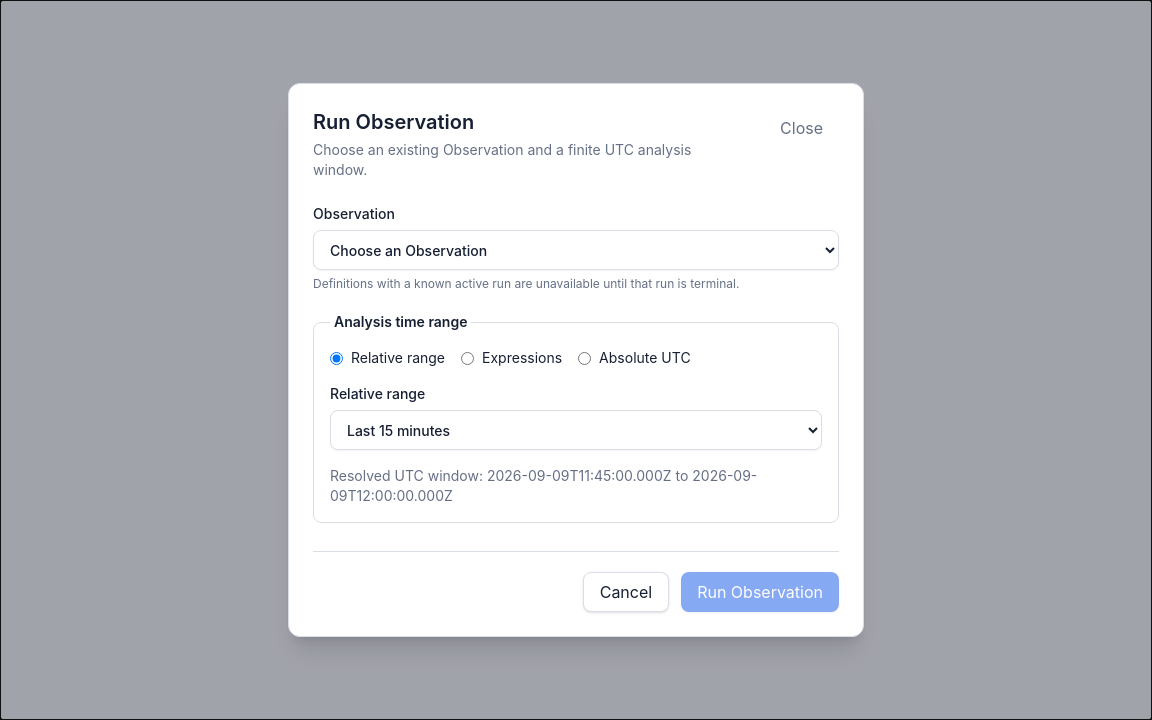
Scenario: RunObservationDialog › rejects unsupported expressions before launch and renders server conflict as an existing active run
The width and height of the screenshot is (1152, 720).
Select "Never run first" in the dropdown named "Observation to run" at (576, 250), box x1=313 y1=230 x2=839 y2=270
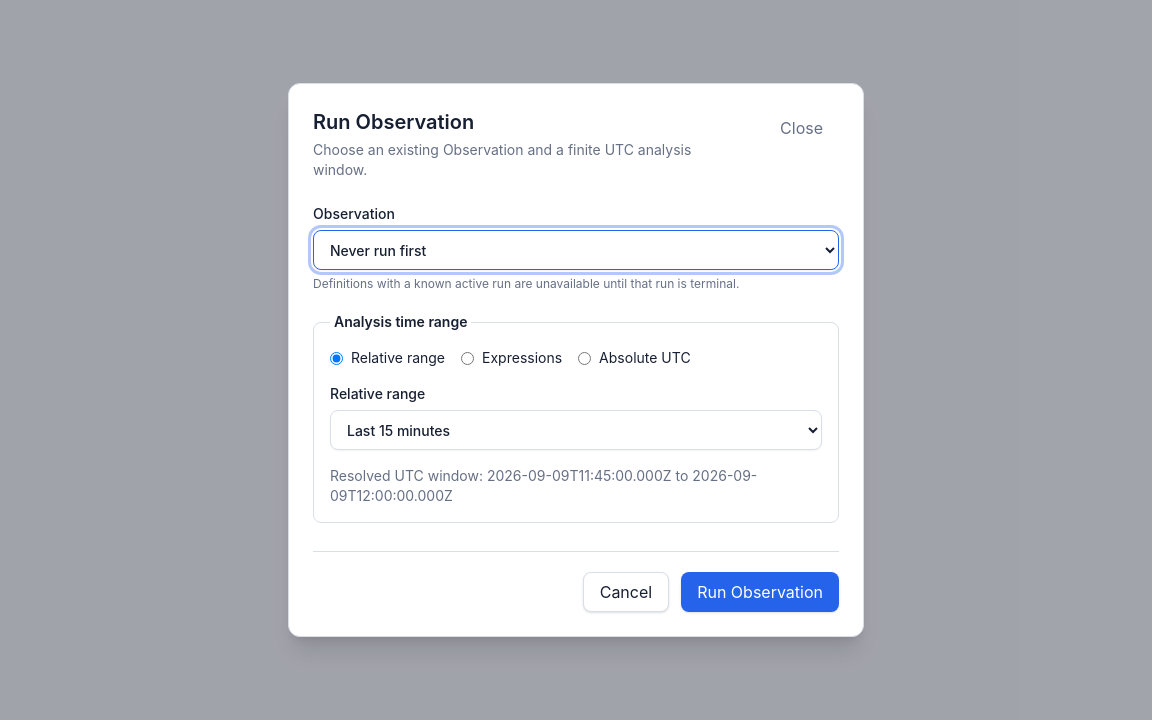
Click the radio button labelled "Expressions" at (468, 358), box x1=461 y1=352 x2=474 y2=364
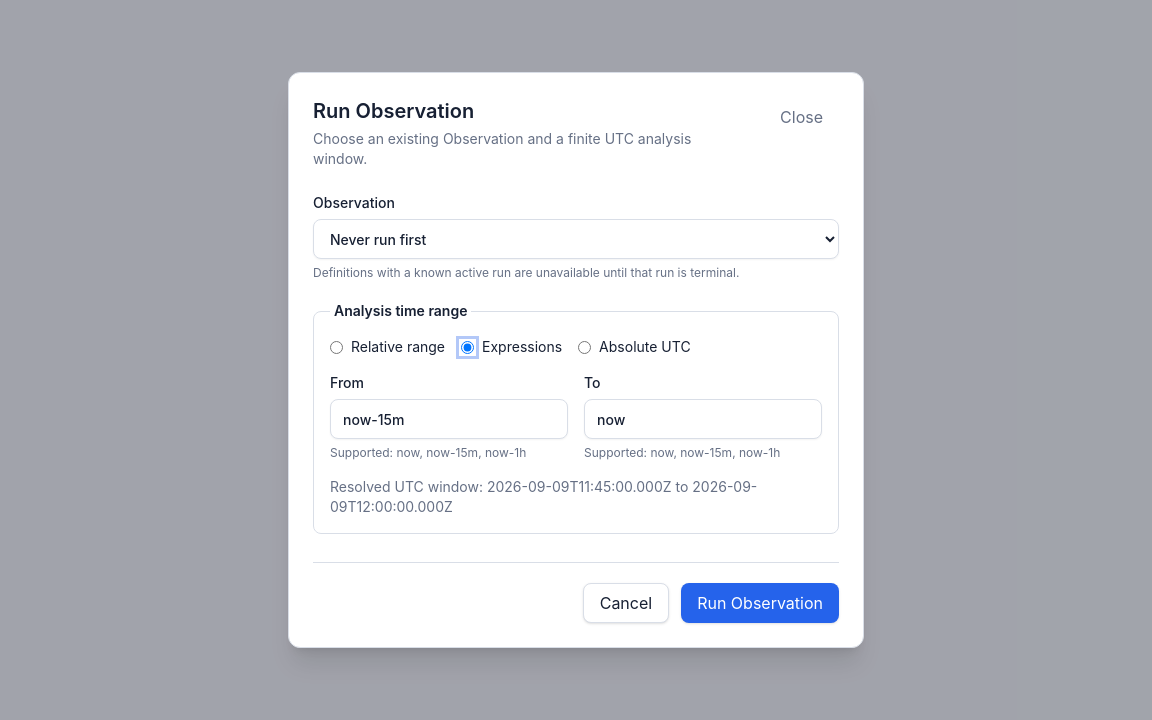
Clear the field named "From expression" at (449, 419), box x1=330 y1=399 x2=568 y2=439
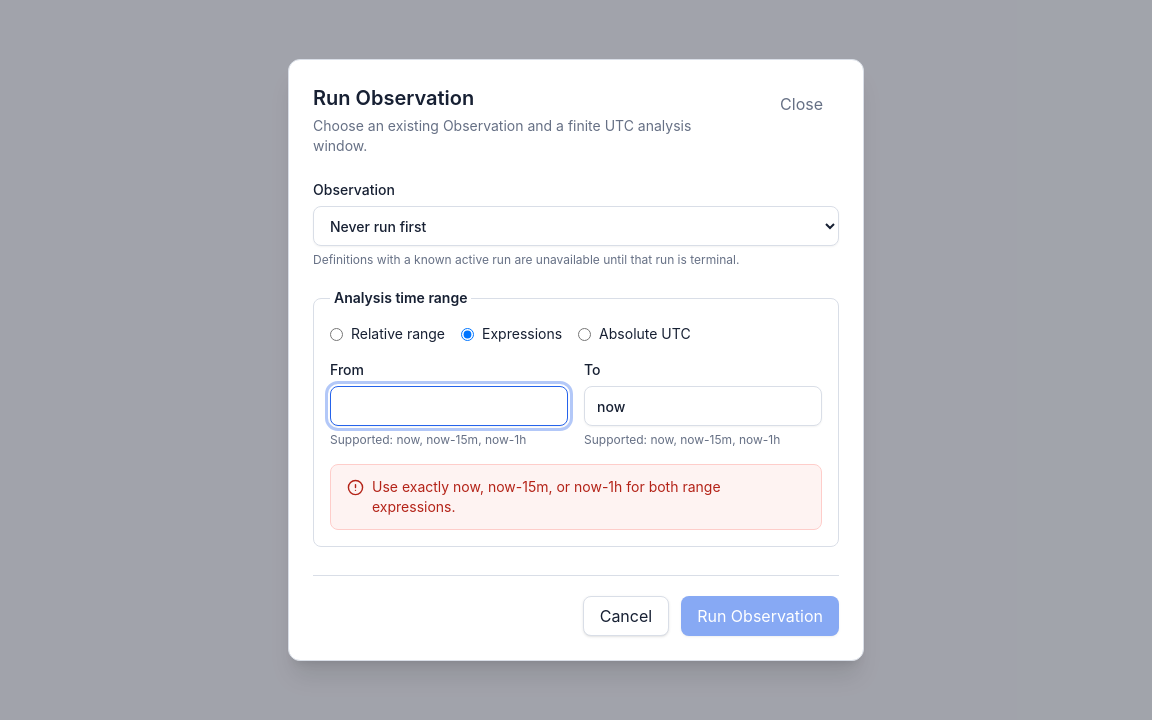
Type "now-5m" into the field named "From expression" at (449, 406), box x1=330 y1=386 x2=568 y2=426
Click the button "Run Observation" at (760, 616), box x1=681 y1=596 x2=839 y2=636
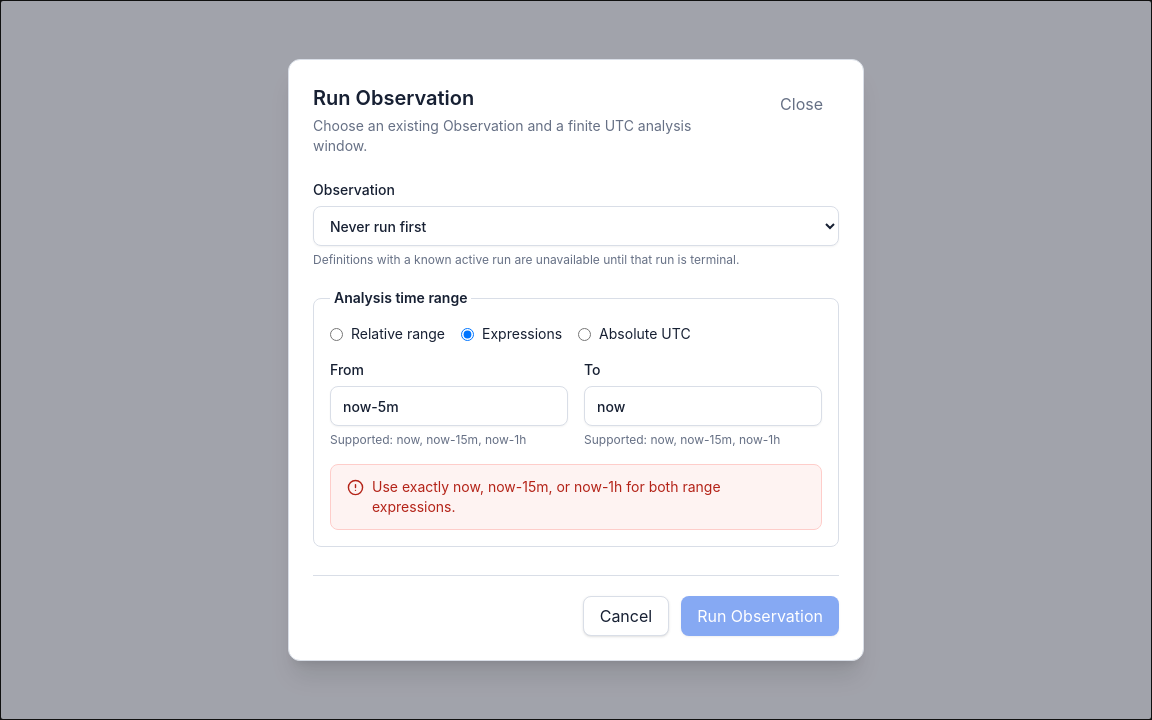
Expected: the text "Use exactly now" is shown, x1=372 y1=478 x2=721 y2=515
Replace the text in the field named "From expression" with "now-15m" at (449, 406), box x1=330 y1=386 x2=568 y2=426
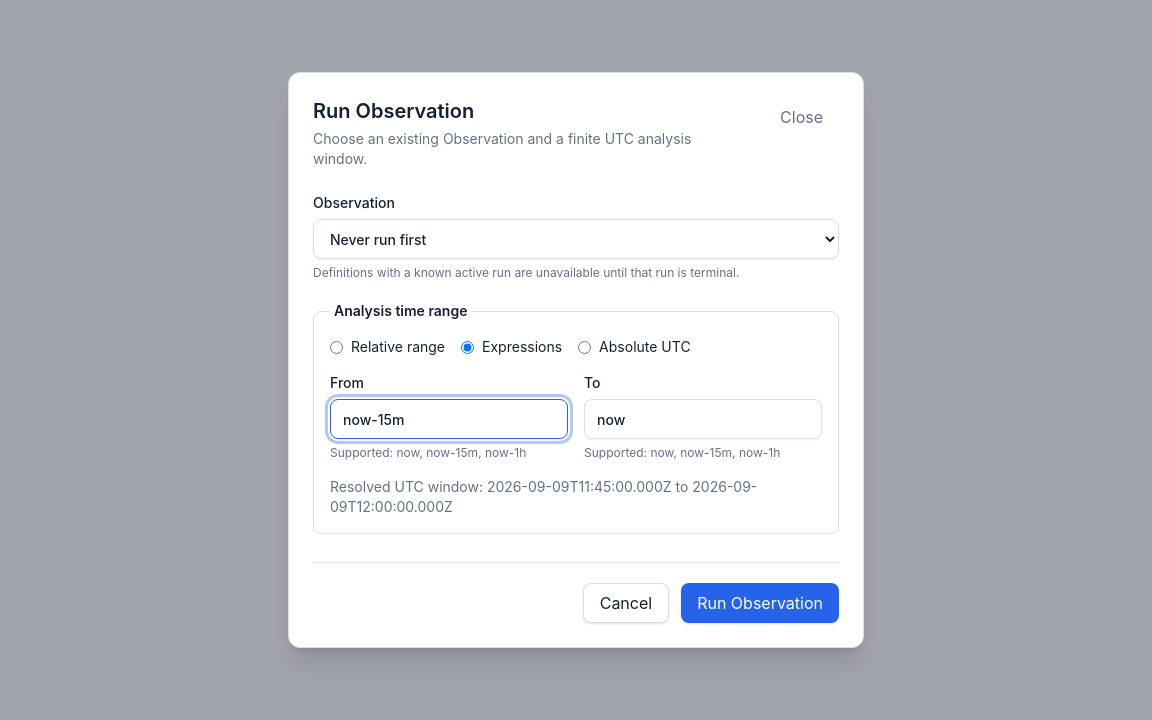
Click the button "Run Observation" at (760, 603), box x1=681 y1=583 x2=839 y2=623
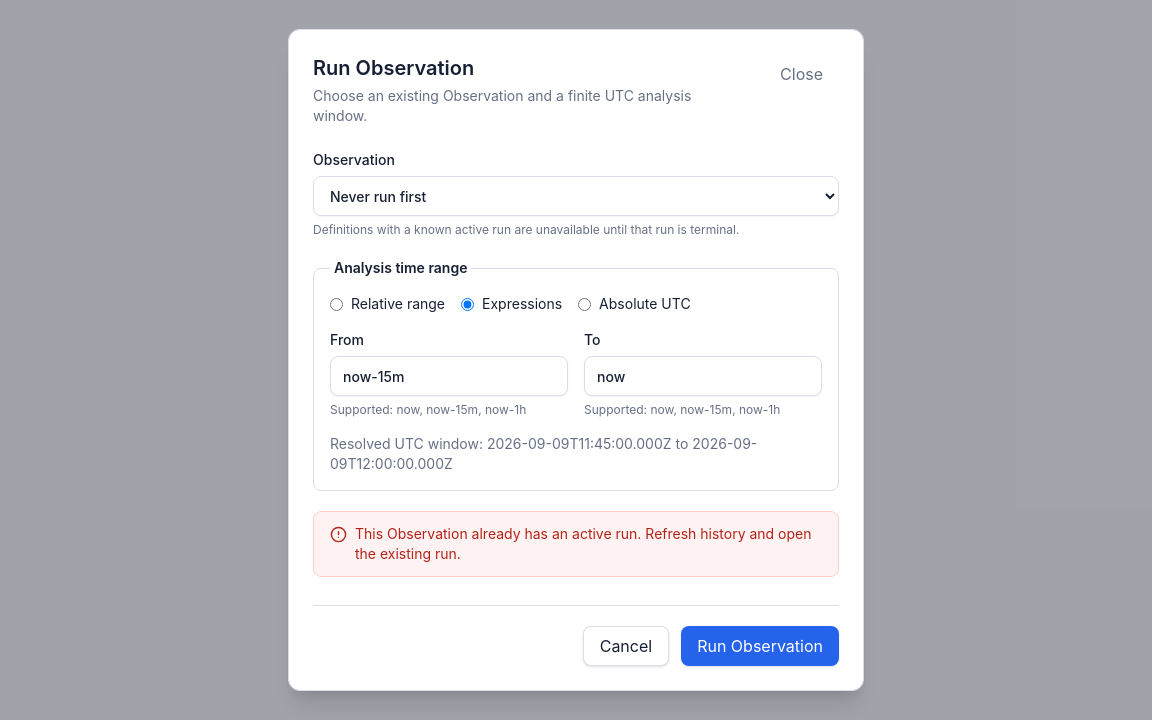
Expected: the text "already has an active run" is shown, x1=355 y1=525 x2=812 y2=562
